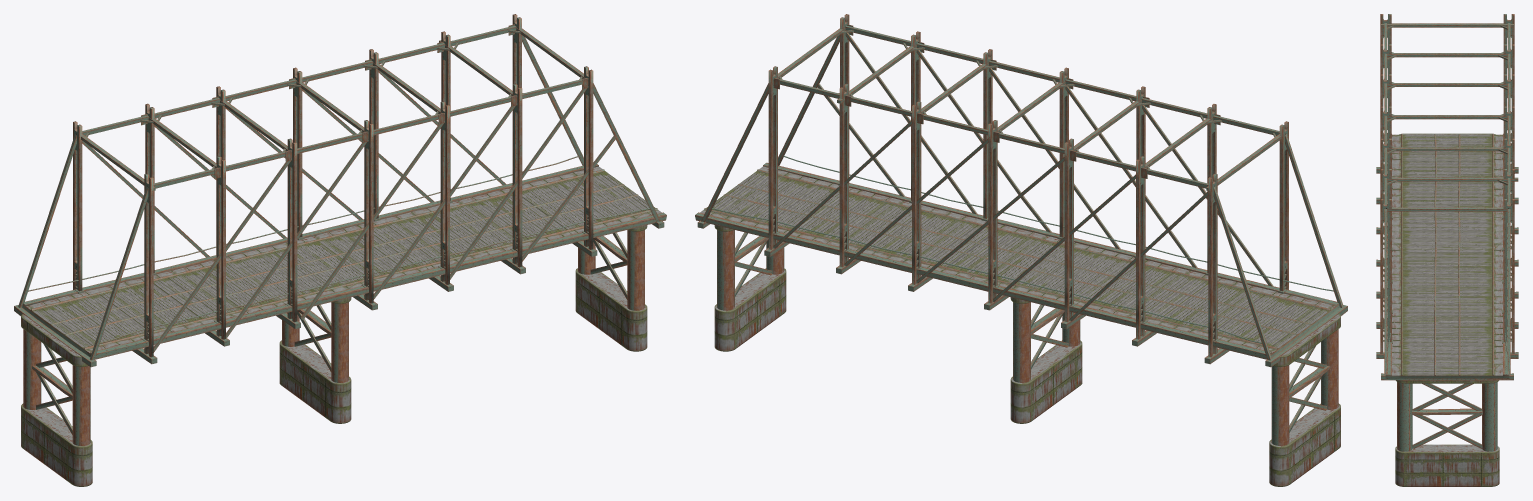
The model's file is BLD_Bridge_A.fbx.
3 views of the same model, side by side, from view 1: azimuth 30°, elevation 25°; view 2: azimuth 150°, elevation 25°; view 3: azimuth 270°, elevation 25° (orthographic). The views are drawn at different scales.
Visible parts, largest first — view 1: BLD_Bridge_A_LOD0; view 2: BLD_Bridge_A_LOD0; view 3: BLD_Bridge_A_LOD0.
Boxes of the visible parts, x1=… form: BLD_Bridge_A_LOD0: x1=14, y1=14, x2=666, y2=486; BLD_Bridge_A_LOD0: x1=695, y1=14, x2=1347, y2=486; BLD_Bridge_A_LOD0: x1=1376, y1=14, x2=1518, y2=486.
Size of what is drawn, in the model's own units: 6106 by 3001 by 1497.
